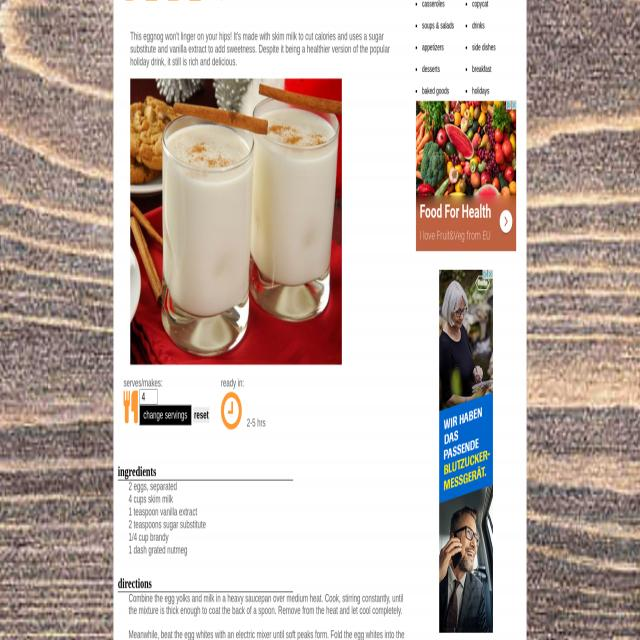button: (130, 79, 342, 365), (439, 269, 493, 633), (416, 100, 516, 252), (139, 405, 191, 425), (500, 209, 512, 234), (193, 407, 209, 423), (482, 269, 488, 279), (488, 270, 493, 280)
field: (139, 389, 158, 405)
